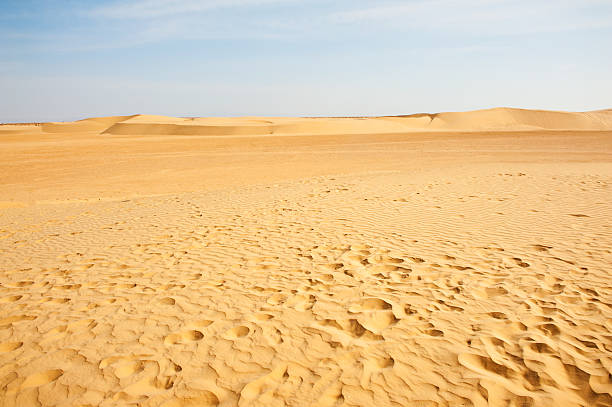human_footprint: (570, 358, 612, 407), (452, 346, 517, 376), (177, 326, 228, 353), (48, 282, 130, 298), (173, 387, 236, 407), (504, 364, 548, 392), (27, 370, 82, 392), (351, 288, 398, 310), (554, 300, 590, 327), (221, 314, 251, 346), (133, 359, 178, 378), (522, 279, 566, 298), (373, 244, 402, 272), (442, 278, 470, 306), (526, 339, 556, 364), (288, 292, 321, 312), (481, 331, 508, 354), (420, 318, 450, 337), (1, 312, 40, 326), (149, 290, 187, 304), (347, 310, 364, 339), (508, 254, 534, 272), (2, 335, 28, 352), (309, 272, 338, 286), (434, 299, 467, 311), (489, 307, 506, 326), (252, 306, 272, 320), (331, 262, 359, 270), (510, 321, 525, 335), (50, 322, 76, 330)
